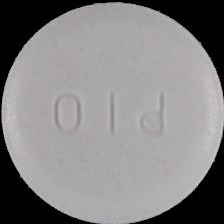16729-021: (0, 0, 224, 224)
